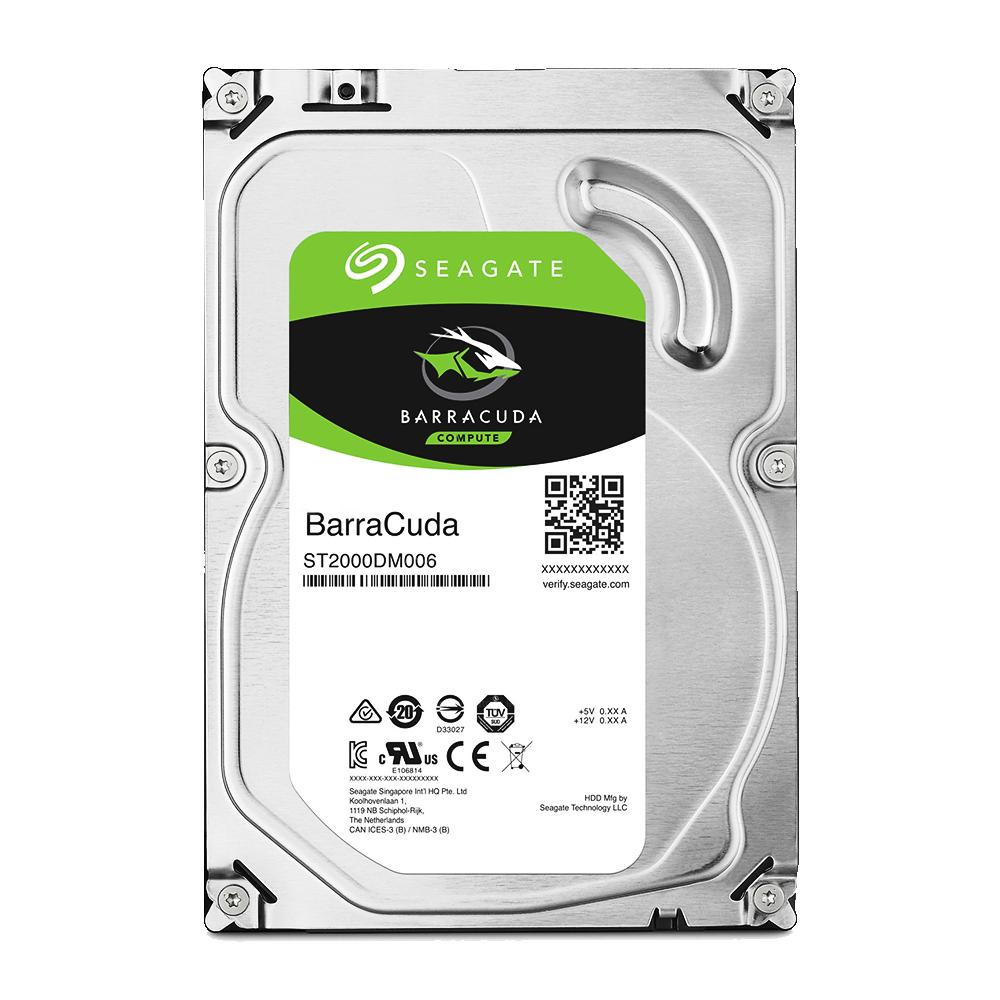internal HDD: (197, 59, 805, 946)
